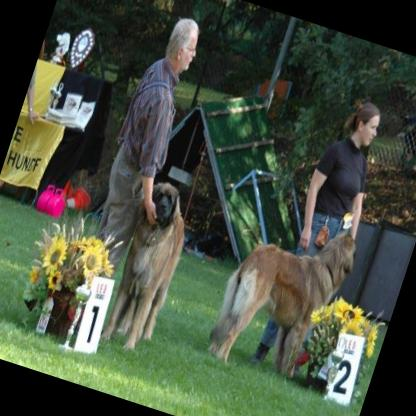Leonberg: (201, 202, 362, 390), (96, 174, 202, 358)
